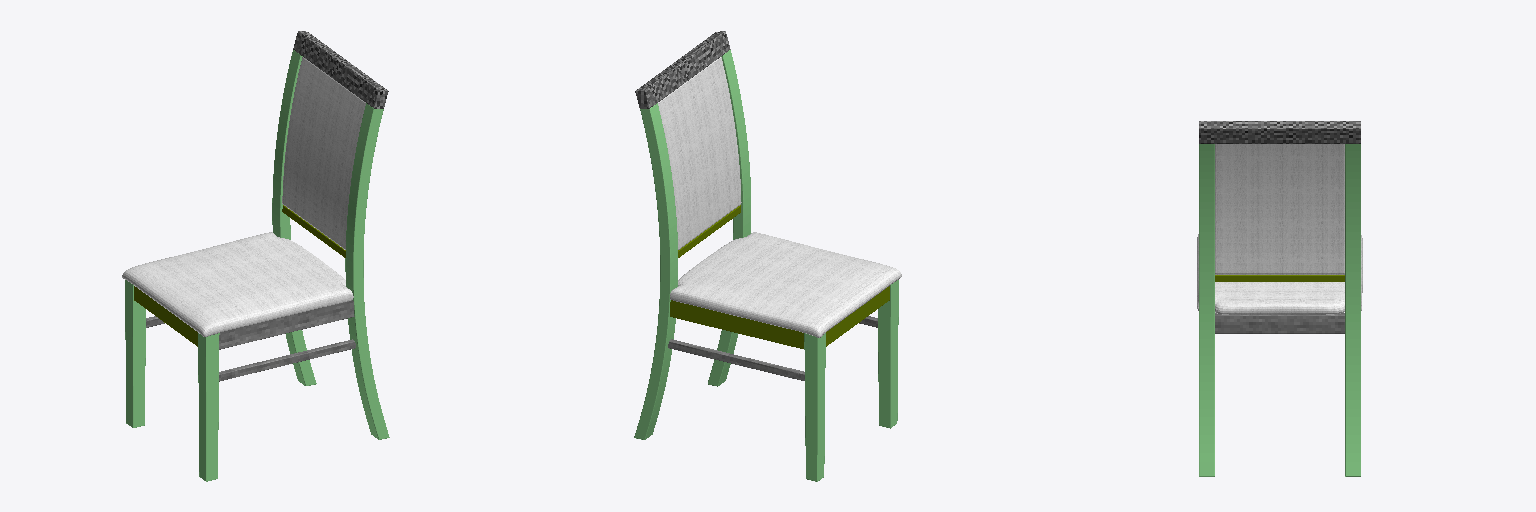
The picture shows the model from 3 angles: view 1: azimuth 30°, elevation 25°; view 2: azimuth 150°, elevation 25°; view 3: azimuth 270°, elevation 25°; orthographic projection.
Parts seen in each view (by area): view 1: Box021, ChamferBox096, ChamferBox092, ChamferBox098, ChamferBox101, ChamferBox099, ChamferBox097, ChamferBox094, ChamferBox093, ChamferBox102; view 2: Box021, ChamferBox096, ChamferBox101, ChamferBox099, ChamferBox092, ChamferBox098, ChamferBox097, ChamferBox103, ChamferBox100, ChamferBox102; view 3: ChamferBox096, ChamferBox092, ChamferBox101, Box021, ChamferBox097, ChamferBox095, ChamferBox104.
Boxes of the visible parts, x1=… form: Box021: x1=122, y1=232, x2=353, y2=336; ChamferBox096: x1=282, y1=57, x2=365, y2=249; ChamferBox092: x1=345, y1=103, x2=389, y2=439; ChamferBox098: x1=198, y1=333, x2=219, y2=481; ChamferBox101: x1=272, y1=50, x2=316, y2=385; ChamferBox099: x1=125, y1=280, x2=145, y2=427; ChamferBox097: x1=293, y1=31, x2=388, y2=108; ChamferBox094: x1=219, y1=300, x2=354, y2=349; ChamferBox093: x1=219, y1=339, x2=355, y2=381; ChamferBox102: x1=134, y1=286, x2=197, y2=346; Box021: x1=670, y1=232, x2=901, y2=337; ChamferBox096: x1=658, y1=57, x2=741, y2=249; ChamferBox101: x1=634, y1=103, x2=677, y2=439; ChamferBox099: x1=804, y1=333, x2=825, y2=481; ChamferBox092: x1=708, y1=50, x2=750, y2=386; ChamferBox098: x1=878, y1=280, x2=898, y2=428; ChamferBox097: x1=635, y1=31, x2=730, y2=108; ChamferBox103: x1=670, y1=300, x2=803, y2=348; ChamferBox100: x1=668, y1=339, x2=804, y2=380; ChamferBox102: x1=826, y1=286, x2=889, y2=346; ChamferBox096: x1=1215, y1=144, x2=1344, y2=274; ChamferBox092: x1=1199, y1=144, x2=1214, y2=476; ChamferBox101: x1=1345, y1=144, x2=1360, y2=476; Box021: x1=1197, y1=234, x2=1362, y2=314; ChamferBox097: x1=1199, y1=121, x2=1360, y2=143; ChamferBox095: x1=1215, y1=313, x2=1344, y2=333; ChamferBox104: x1=1215, y1=275, x2=1344, y2=281.
Size of the model in its own units: 5.35 by 9.58 by 4.09.
Materials: 9 (3 with a texture image).